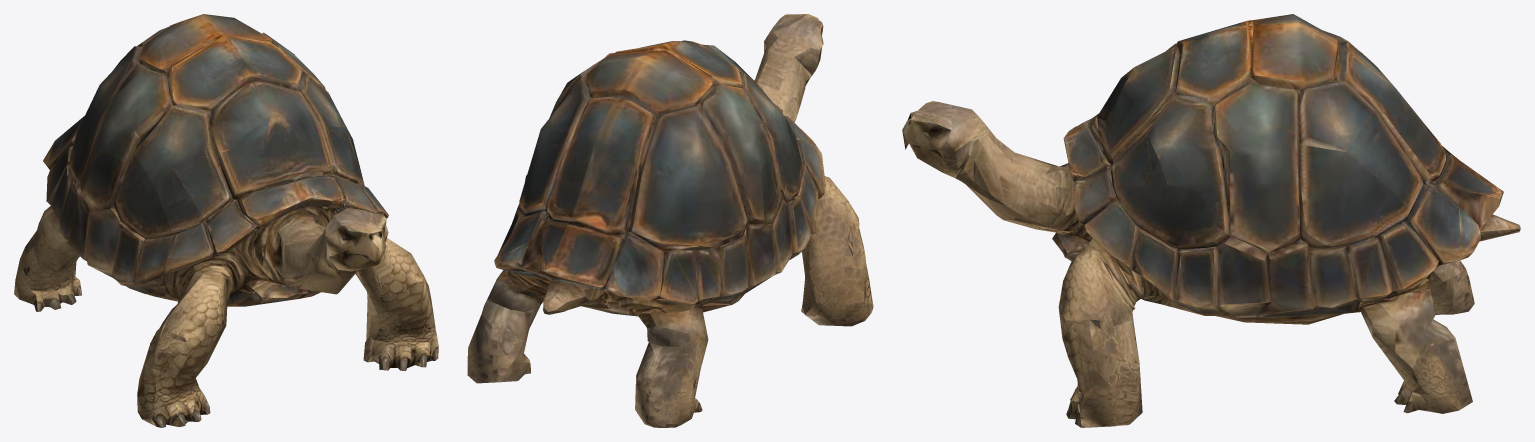
Rendered from tortoise.glb.
3 renders of one model, left to right at view 1: azimuth 30°, elevation 25°; view 2: azimuth 150°, elevation 25°; view 3: azimuth 270°, elevation 25°, orthographic. The views are drawn at different scales.
Bounding box in the file's own units: 1.12 × 1.13 × 1.9.
1 material, 1 textured.
